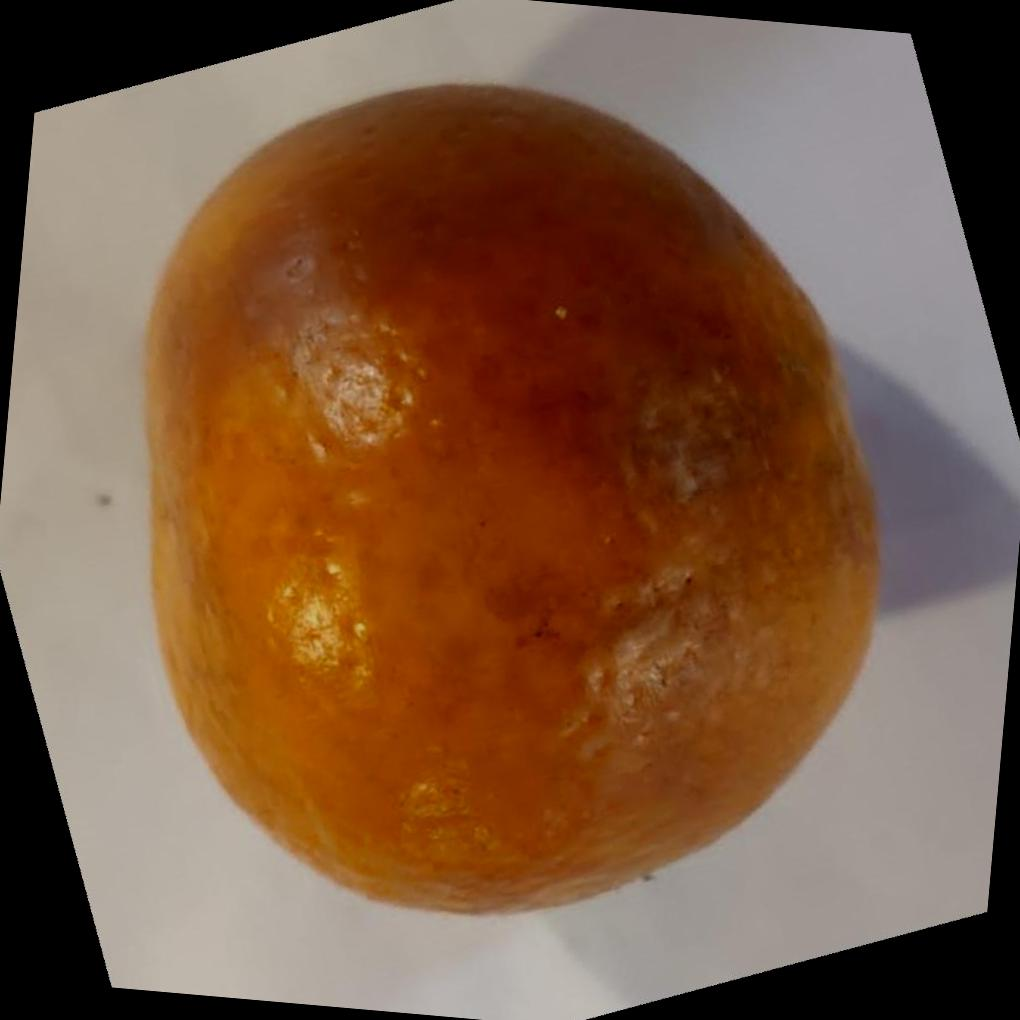FreshOrange: (135, 79, 880, 918)
